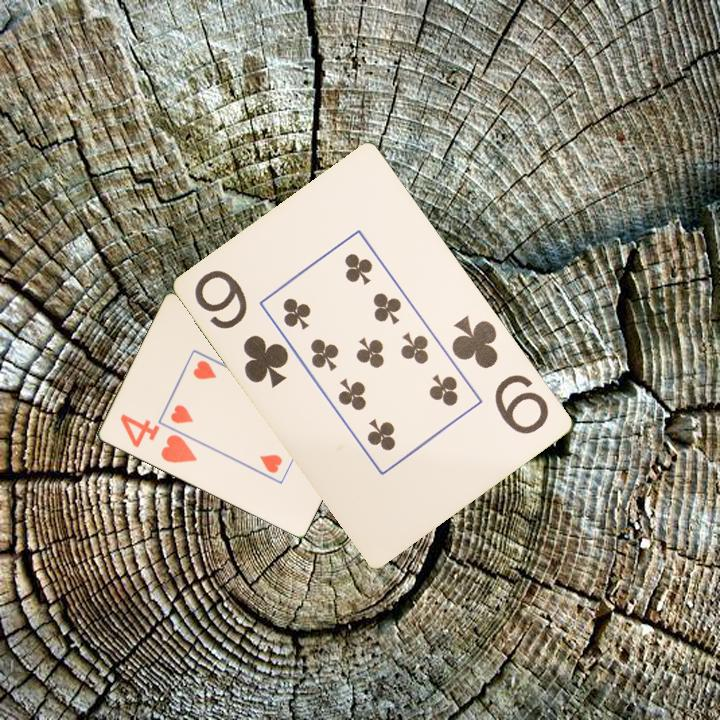4h: (116, 410, 200, 466)
9c: (448, 312, 553, 438), (191, 266, 293, 391)
